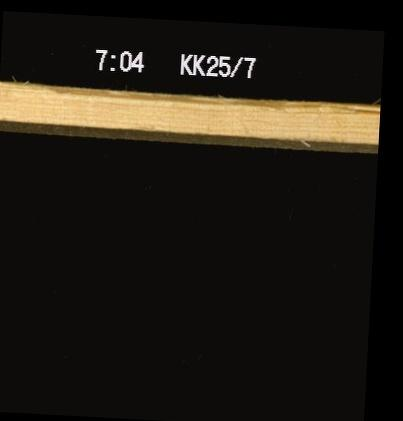split: (332, 100, 379, 115)
wave: (45, 91, 320, 109)
